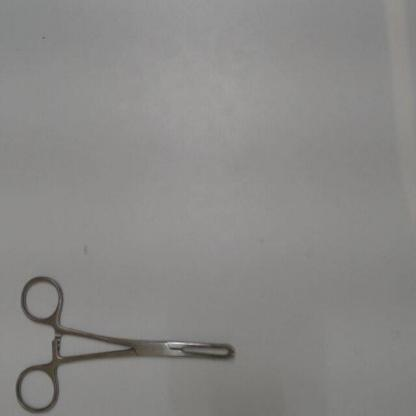Allis Tissue Forceps: (11, 267, 248, 415)
